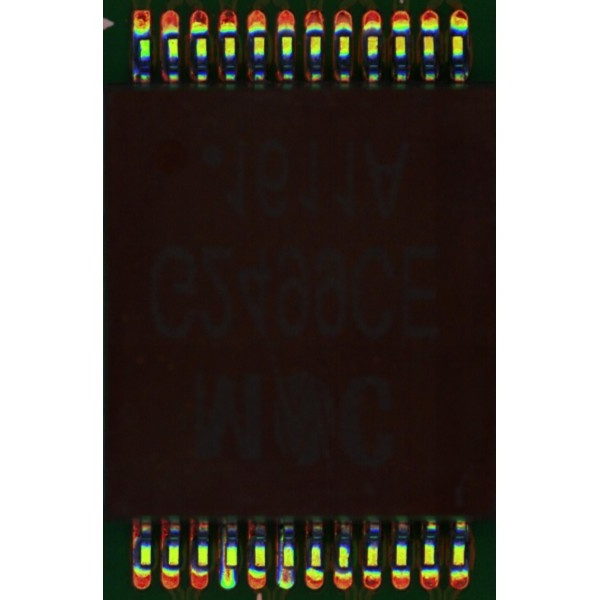Bad_podu: (283, 562, 292, 581), (225, 560, 234, 579)
Bad_qiaojiao: (221, 528, 226, 569), (279, 528, 284, 567)
